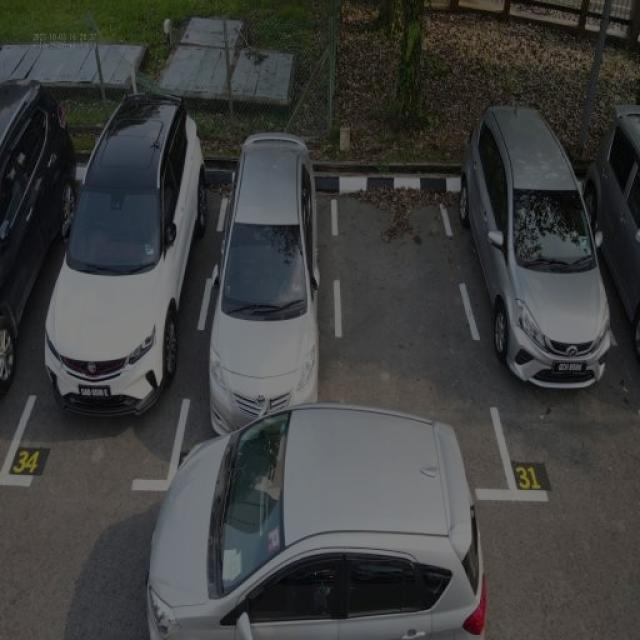Legalparking: (45, 95, 206, 415), (460, 108, 610, 388), (209, 134, 316, 431)
illegalparking: (146, 402, 486, 639)
